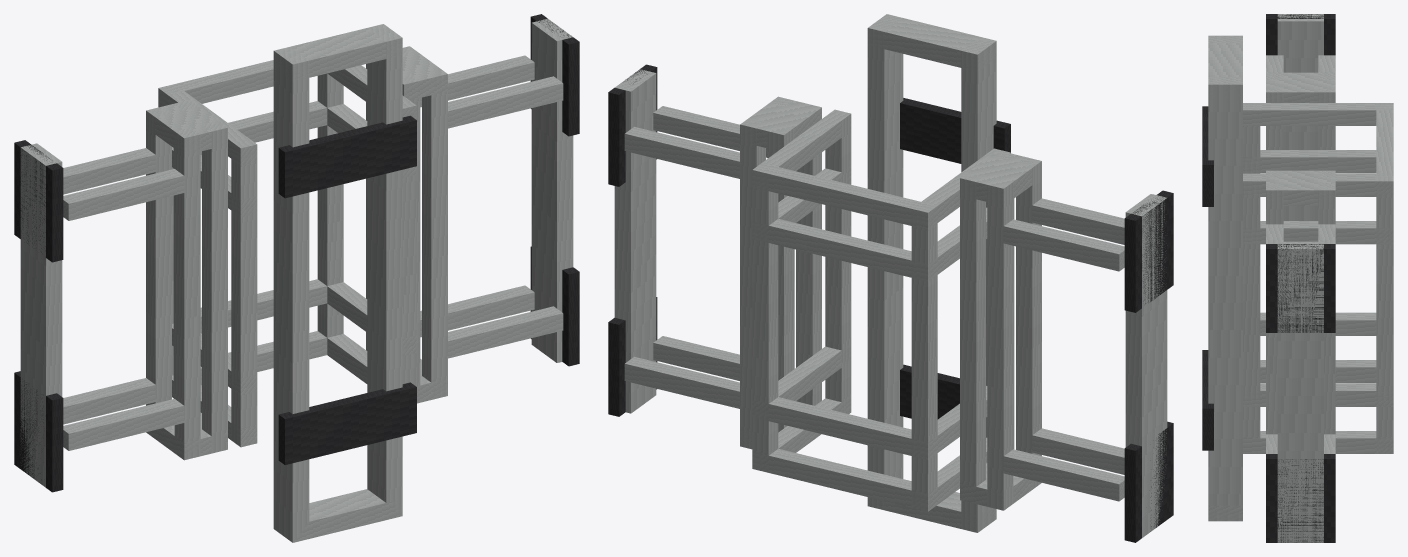
File: mount_sce_3_item.obj
The picture shows the model from 3 angles, left to right: view 1: azimuth 30°, elevation 25°; view 2: azimuth 150°, elevation 25°; view 3: azimuth 270°, elevation 25°; orthographic projection. The views are drawn at different scales.
Visible parts, largest first — view 1: transformer_bank_mount_sce_3_item; view 2: transformer_bank_mount_sce_3_item; view 3: transformer_bank_mount_sce_3_item.
Part boxes in pixels (box(x1,y1,x2,y2)): transformer_bank_mount_sce_3_item: box(14, 14, 579, 542); transformer_bank_mount_sce_3_item: box(608, 14, 1173, 542); transformer_bank_mount_sce_3_item: box(1202, 14, 1393, 542).
Bounding box in the file's own units: 3 × 2.6 × 1.03.
